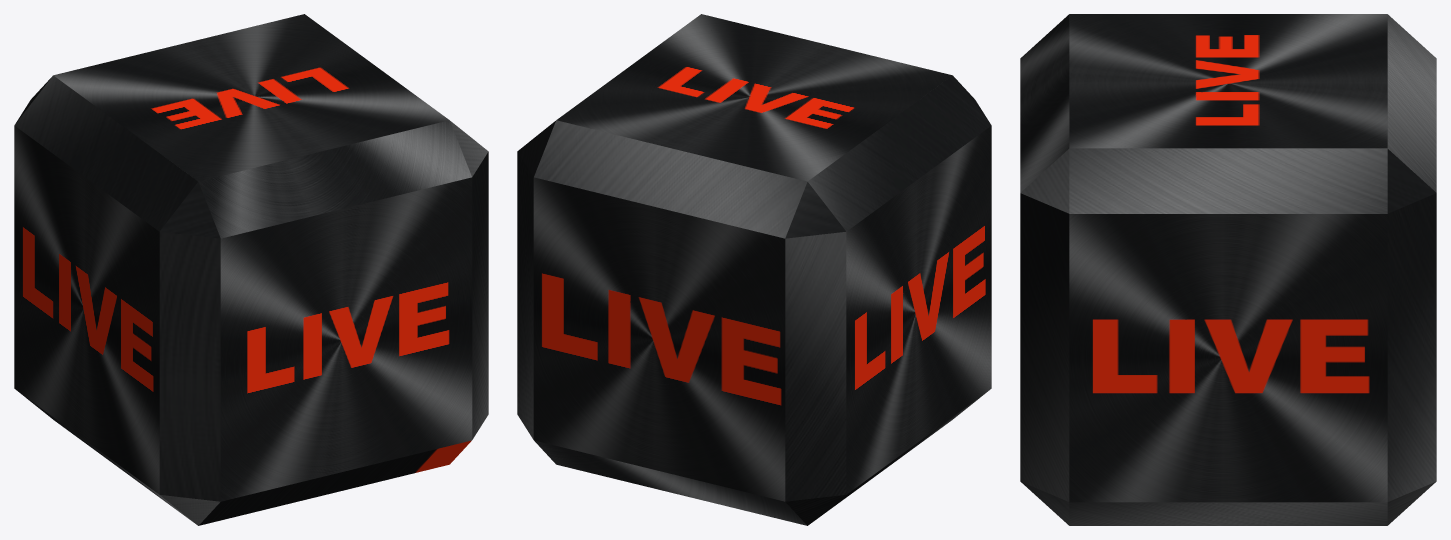
Rendered from redcube.glb.
3 views of the same model, side by side, from view 1: azimuth 30°, elevation 25°; view 2: azimuth 150°, elevation 25°; view 3: azimuth 270°, elevation 25° (orthographic). The views are drawn at different scales.
Parts seen in each view (by area): view 1: Cube; view 2: Cube; view 3: Cube.
Boxes of the visible parts, bbox=[...] form: Cube: bbox=[14, 14, 488, 525]; Cube: bbox=[517, 14, 991, 525]; Cube: bbox=[1020, 14, 1436, 525].
Size of the model in its own units: 3 by 3 by 3.
Materials: 1 (1 with a texture image).
